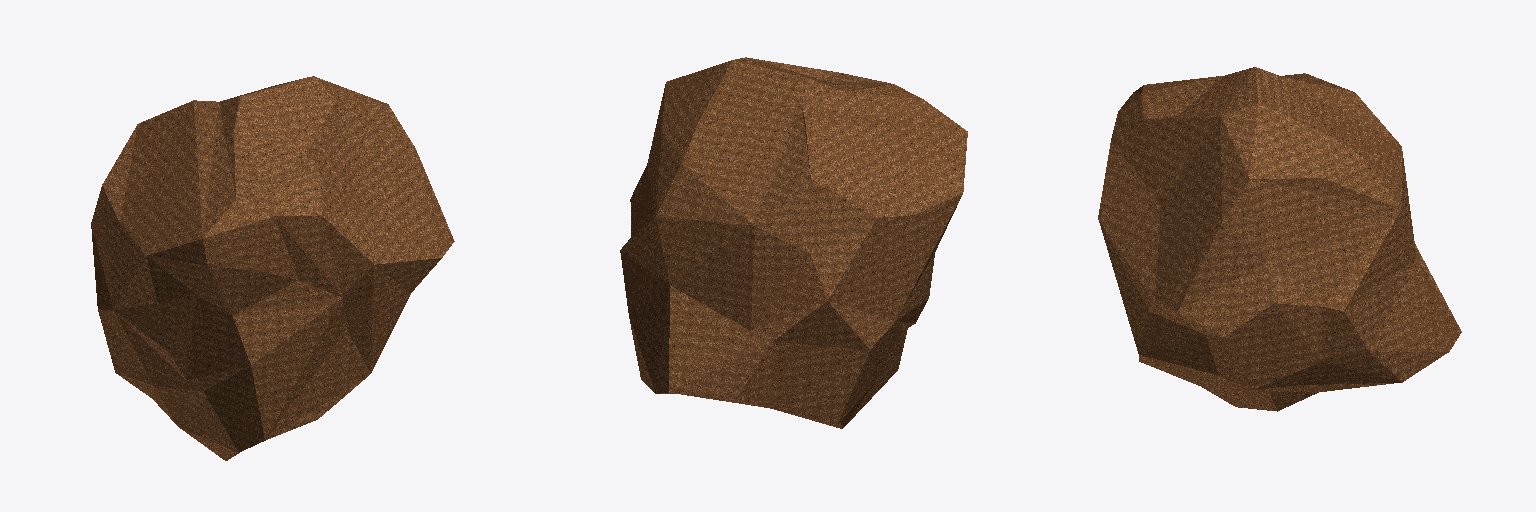
3 renders of one model, left to right at view 1: azimuth 30°, elevation 25°; view 2: azimuth 150°, elevation 25°; view 3: azimuth 270°, elevation 25°, orthographic.
Visible parts, largest first — view 1: SketchUp_ID3.001; view 2: SketchUp_ID3.001; view 3: SketchUp_ID3.001.
Boxes of the visible parts, x1=… form: SketchUp_ID3.001: x1=91, y1=76, x2=454, y2=460; SketchUp_ID3.001: x1=620, y1=57, x2=967, y2=428; SketchUp_ID3.001: x1=1098, y1=67, x2=1461, y2=411.
Size of the model in its own units: 2.42 by 2.68 by 2.5.
2 materials, 1 textured.